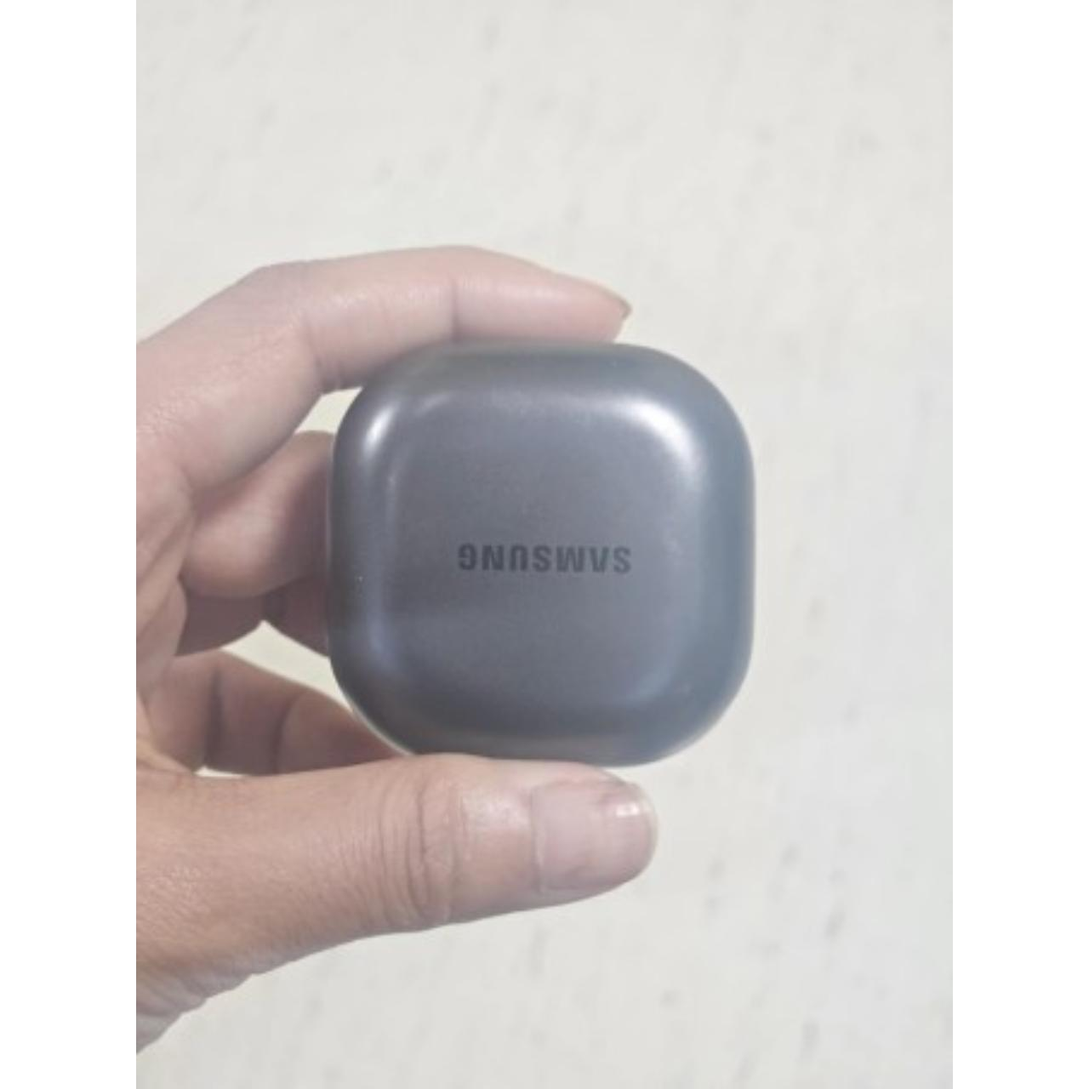Buds: (325, 339, 761, 767)
